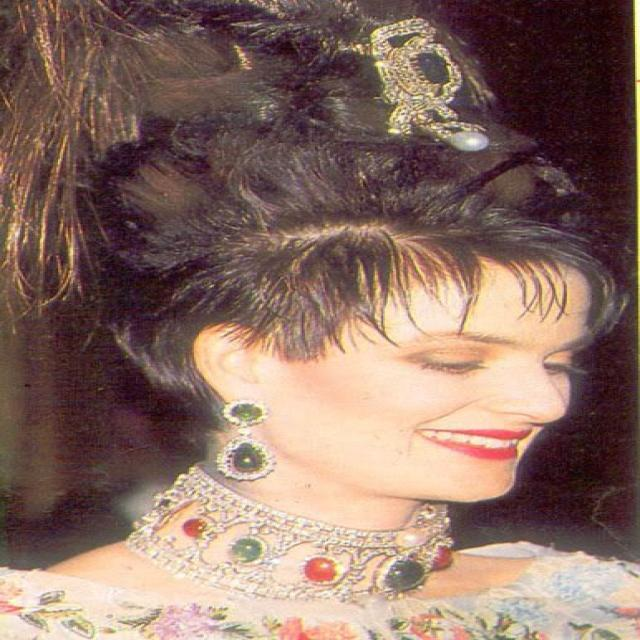Earring: (216, 383, 286, 492)
